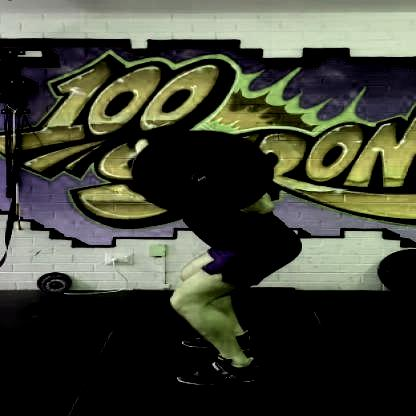Barbell: (187, 169, 216, 187)
